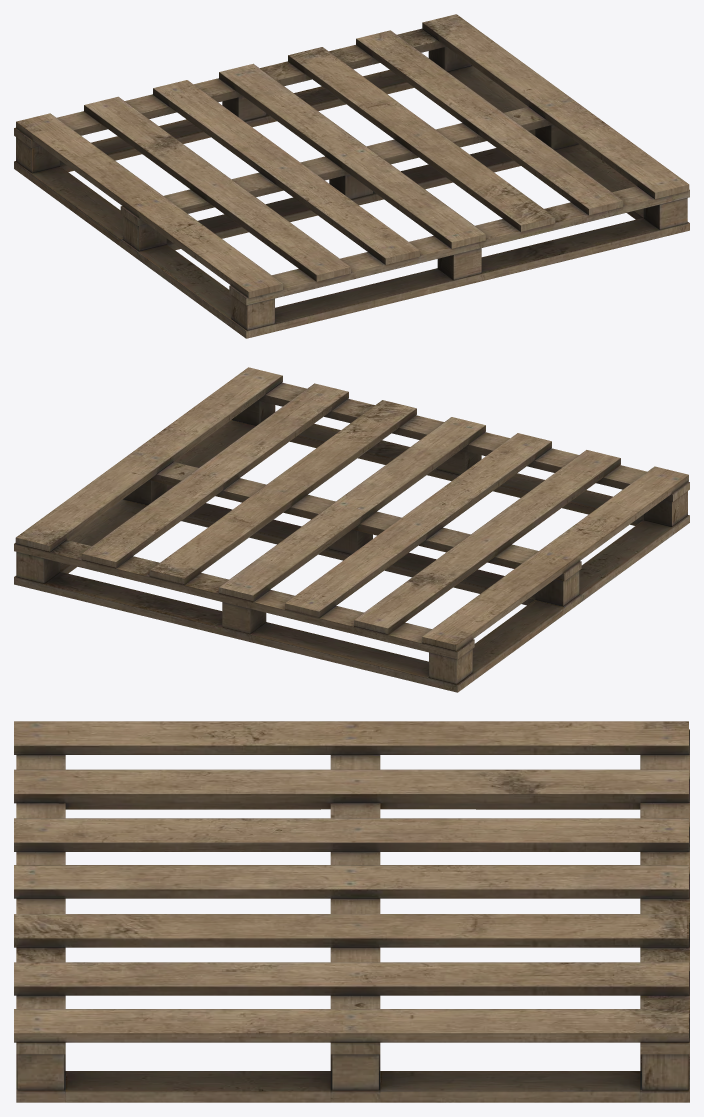
File: pallet.glb
The picture shows the model from 3 angles, top to bottom: view 1: azimuth 30°, elevation 25°; view 2: azimuth 150°, elevation 25°; view 3: azimuth 270°, elevation 25°; orthographic projection. The views are drawn at different scales.
Parts seen in each view (by area): view 1: Wood_Pallet; view 2: Wood_Pallet; view 3: Wood_Pallet.
Boxes of the visible parts, <box> form: Wood_Pallet: <box>14,14,689,338</box>; Wood_Pallet: <box>14,367,689,692</box>; Wood_Pallet: <box>14,721,689,1102</box>.
Bounding box in the file's own units: 120 × 12.14 × 109.
Materials: 1 (1 with a texture image).
